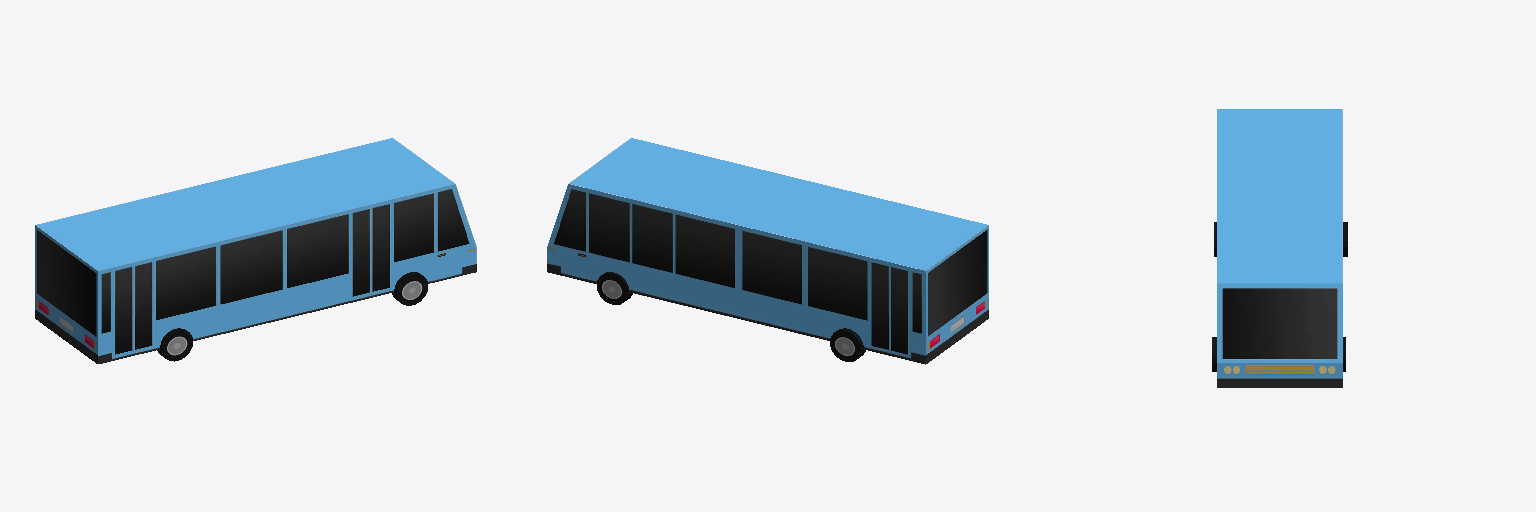
3 renders of one model, left to right at view 1: azimuth 30°, elevation 25°; view 2: azimuth 150°, elevation 25°; view 3: azimuth 270°, elevation 25°, orthographic.
Visible parts, largest first — view 1: Car_12; view 2: Car_12; view 3: Car_12.
Boxes of the visible parts, <box> form: Car_12: <box>35,138,476,363</box>; Car_12: <box>547,138,988,364</box>; Car_12: <box>1212,109,1347,387</box>.
Size of the model in its own units: 181 by 49.35 by 56.34.
Materials: 1 (1 with a texture image).